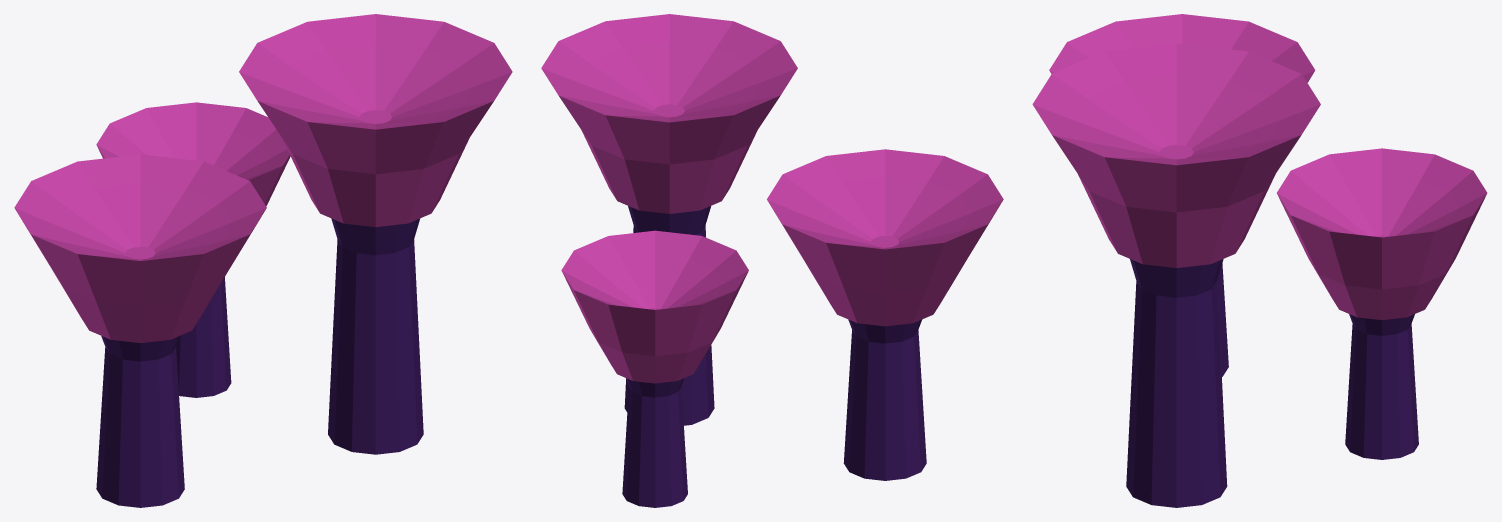
Rendered from hongos_acidos.obj.
The picture shows the model from 3 angles, left to right: view 1: azimuth 30°, elevation 25°; view 2: azimuth 150°, elevation 25°; view 3: azimuth 270°, elevation 25°; orthographic projection. The views are drawn at different scales.
Bounding box in the file's own units: 1.01 × 0.76 × 0.82.
